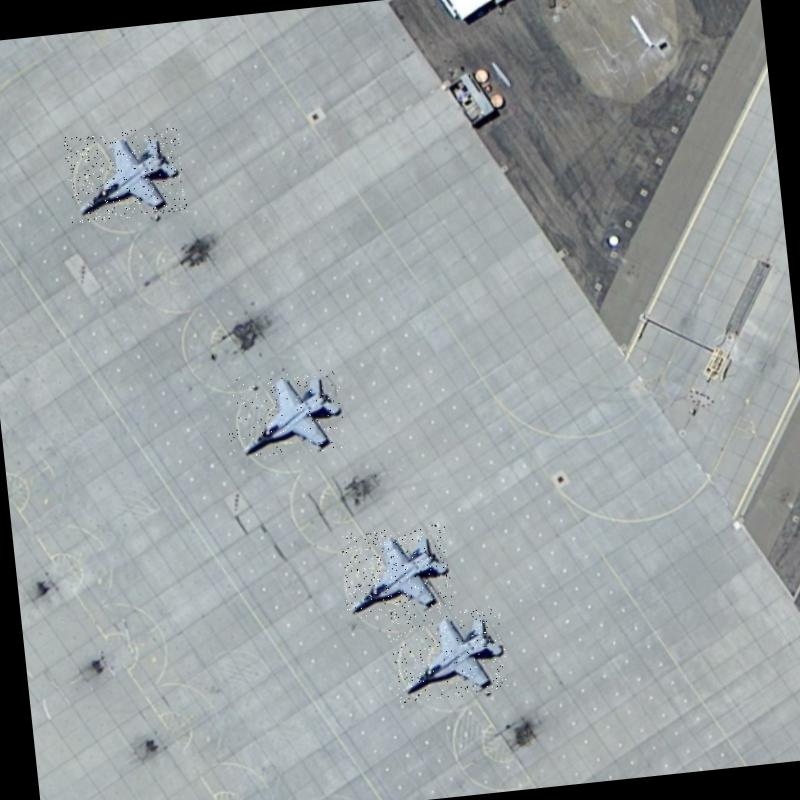A16: (63, 125, 187, 224), (387, 604, 509, 703), (223, 366, 346, 461), (339, 523, 453, 620)
